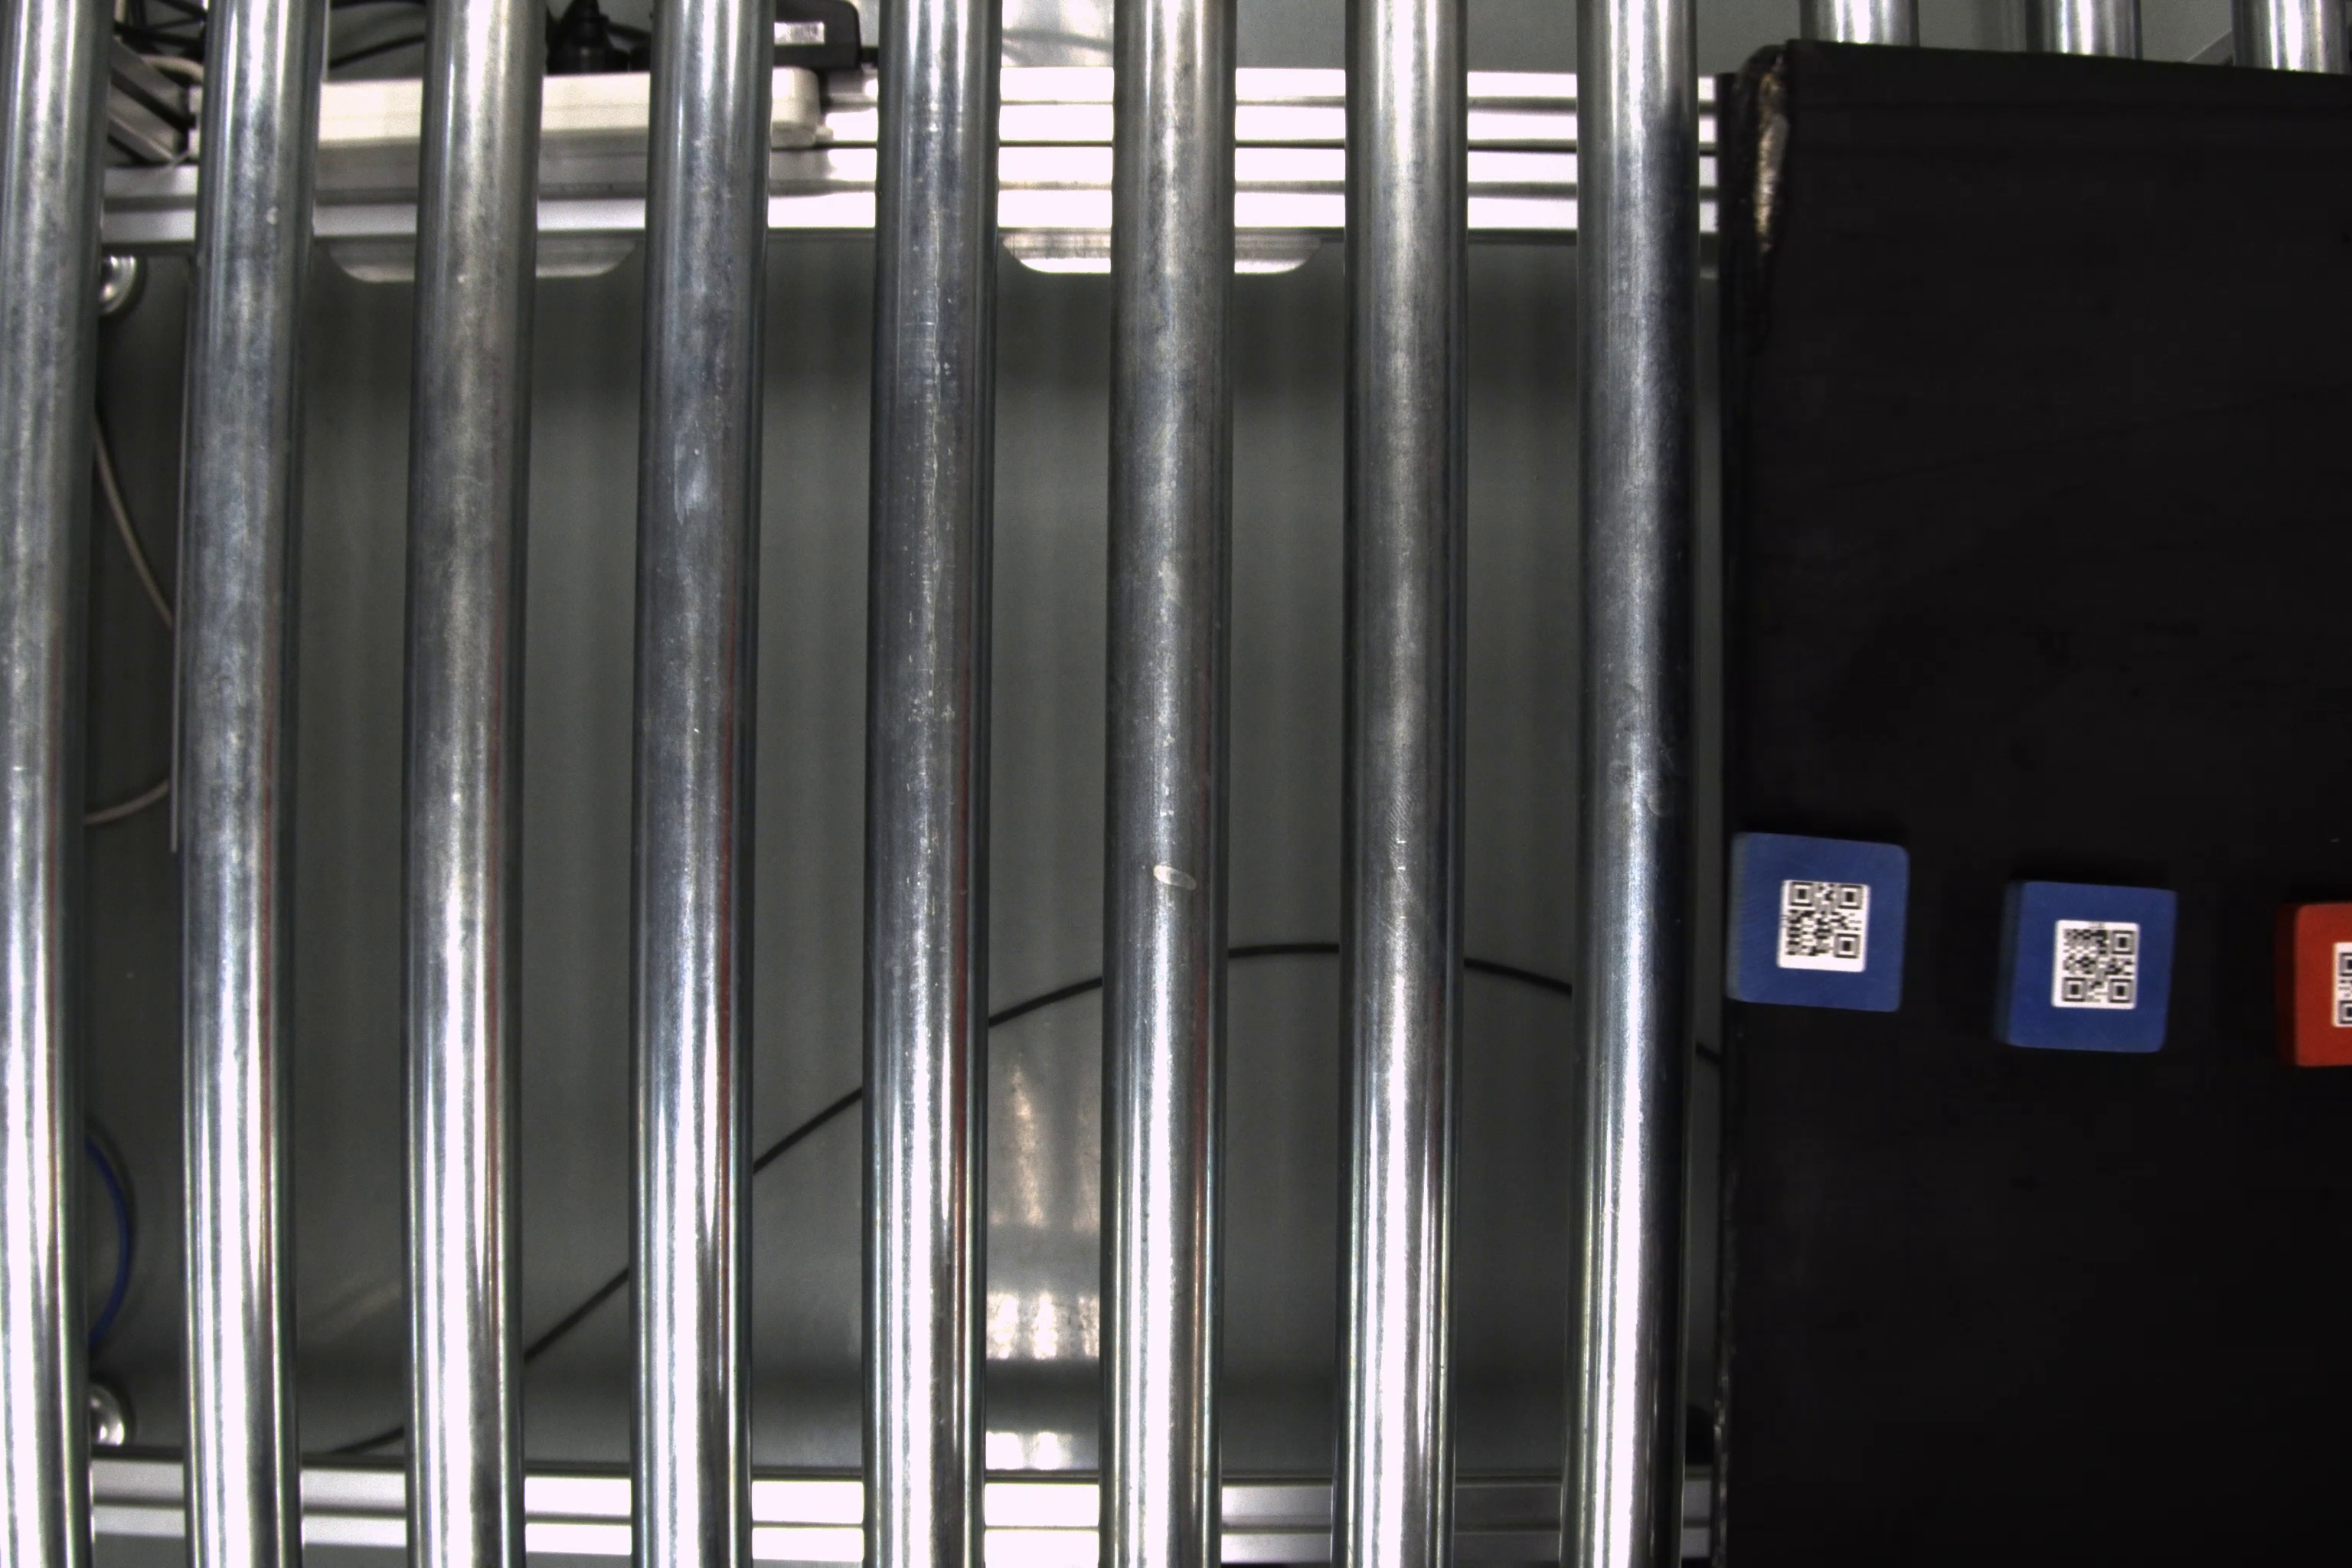wood: (1722, 822, 1916, 1018), (1997, 873, 2180, 1060), (2275, 894, 2347, 1073)
